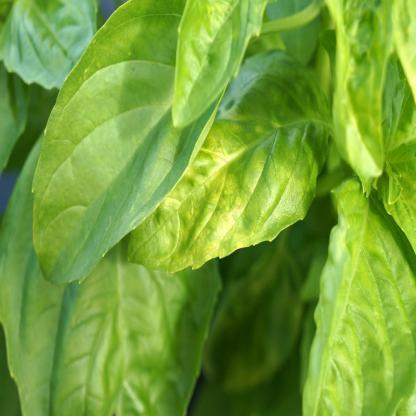Tomato leaf bacterial spot: (31, 8, 208, 286), (126, 53, 332, 272)
